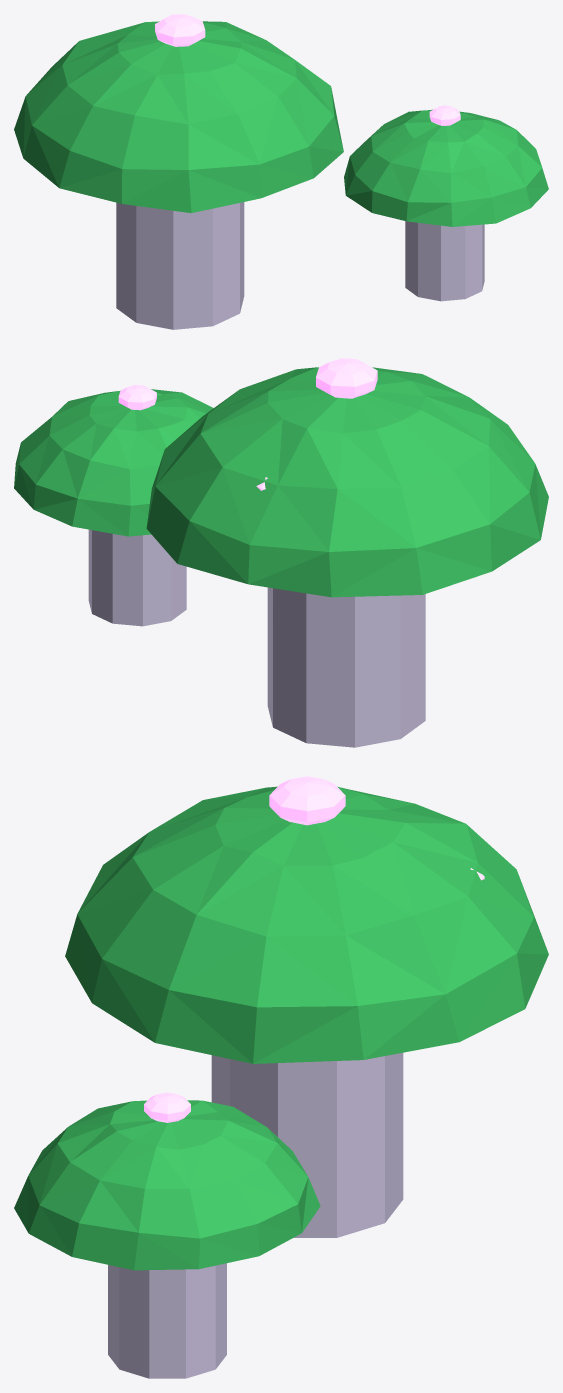
Rendered from AlienMushroom.fbx.
The picture shows the model from 3 angles, top to bottom: view 1: azimuth 30°, elevation 25°; view 2: azimuth 150°, elevation 25°; view 3: azimuth 270°, elevation 25°; orthographic projection. The views are drawn at different scales.
Parts seen in each view (by area): view 1: Top_3CC864, Top_E6DCFF, Top_B45AFF_Neon; view 2: Top_3CC864, Top_E6DCFF, Top_B45AFF_Neon; view 3: Top_3CC864, Top_E6DCFF, Top_B45AFF_Neon.
Part boxes in pixels (x1,y1,x2,y2): Top_3CC864: [14, 21, 548, 226]; Top_E6DCFF: [116, 202, 484, 329]; Top_B45AFF_Neon: [155, 14, 460, 125]; Top_3CC864: [14, 367, 548, 597]; Top_E6DCFF: [88, 529, 425, 747]; Top_B45AFF_Neon: [118, 358, 377, 490]; Top_3CC864: [14, 786, 548, 1270]; Top_E6DCFF: [108, 1052, 403, 1378]; Top_B45AFF_Neon: [144, 776, 484, 1122].
Size of the model in its own units: 2 by 1.22 by 1.42.
